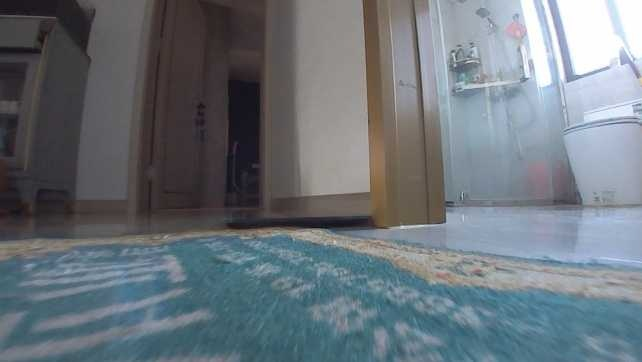blanket: (0, 222, 641, 361)
toilet: (558, 95, 641, 205)
